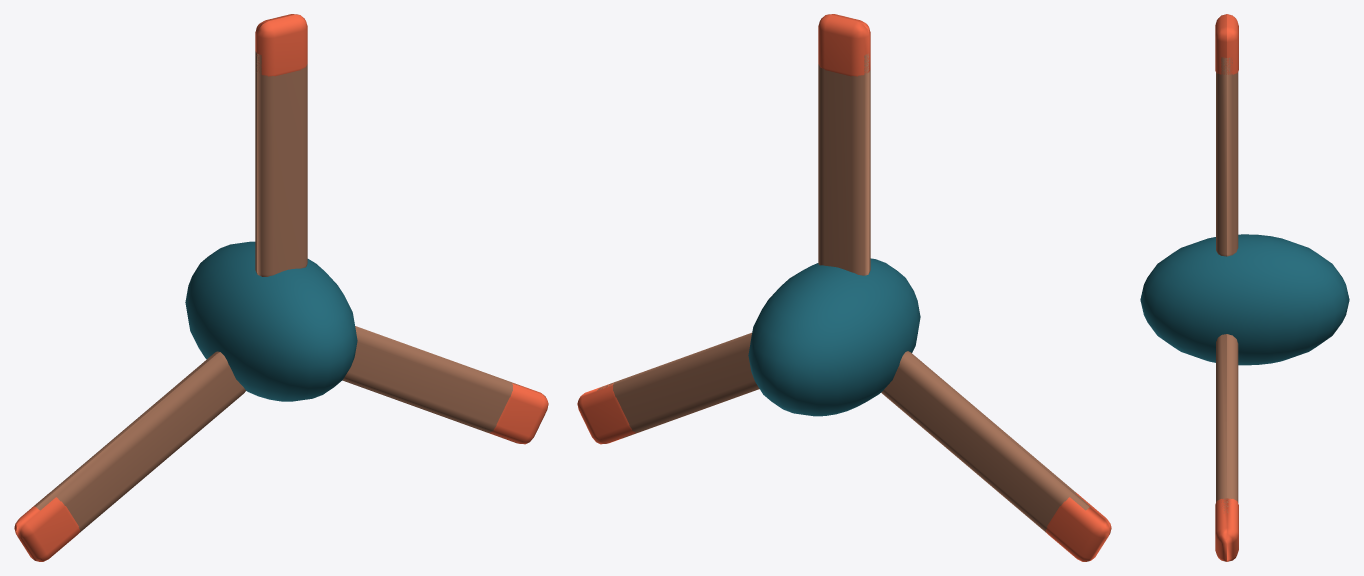
The model's file is classic-propeller.glb.
3 views of the same model, side by side, from view 1: azimuth 30°, elevation 25°; view 2: azimuth 150°, elevation 25°; view 3: azimuth 270°, elevation 25° (orthographic). The views are drawn at different scales.
Parts seen in each view (by area): view 1: toy-classic-propeller; view 2: toy-classic-propeller; view 3: toy-classic-propeller.
Part boxes in pixels (<box>): toy-classic-propeller: <box>14,14,548,561</box>; toy-classic-propeller: <box>577,14,1111,561</box>; toy-classic-propeller: <box>1140,14,1349,561</box>.
Bounding box in the file's own units: 1.84 × 1.6 × 0.7.
